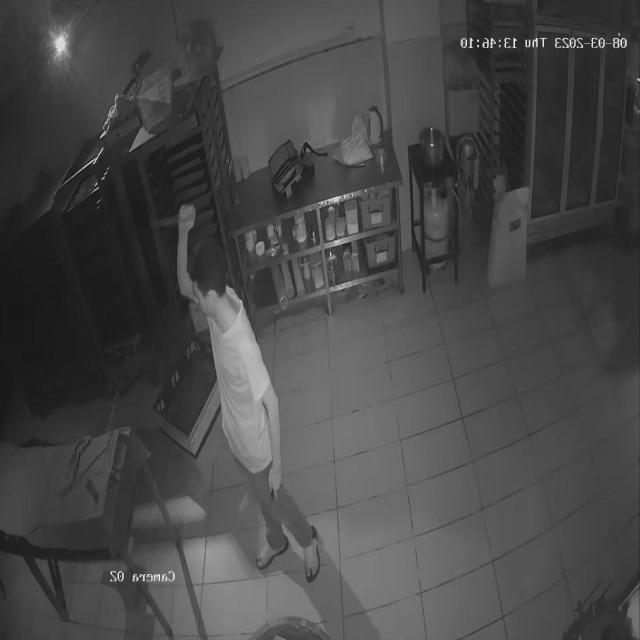Knife: (138, 202, 218, 234)
